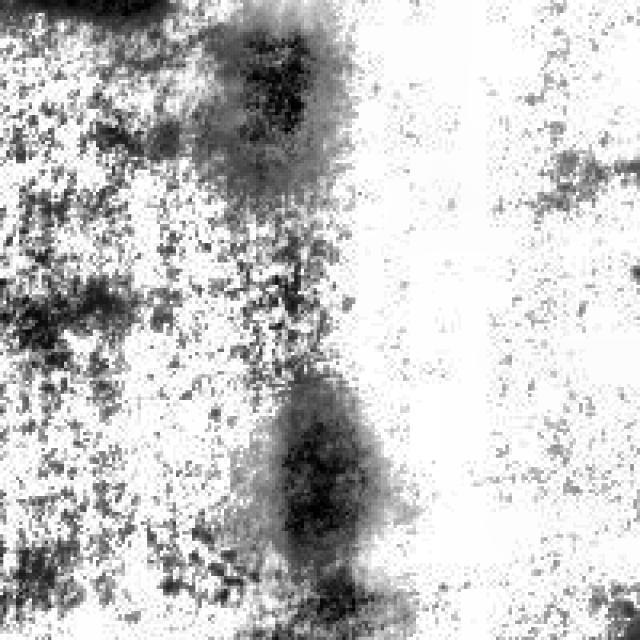Scratches: (192, 4, 336, 182), (252, 396, 378, 566)
